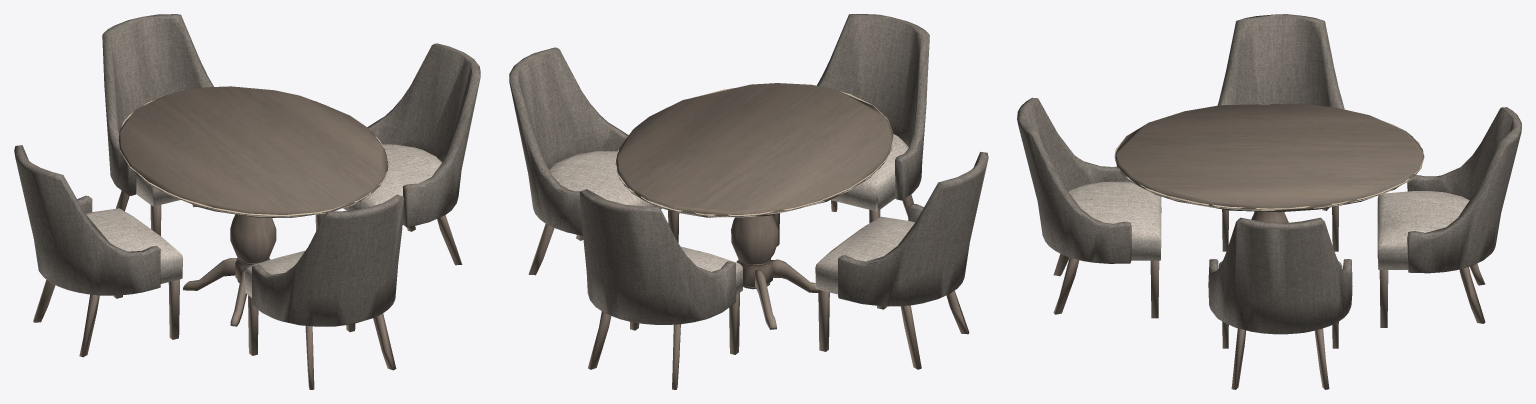
File: table2-var1.glb
The picture shows the model from 3 angles, left to right: view 1: azimuth 30°, elevation 25°; view 2: azimuth 150°, elevation 25°; view 3: azimuth 270°, elevation 25°; orthographic projection. The views are drawn at different scales.
Parts seen in each view (by area): view 1: SM_Table, SM_Chair3, SM_Chair1, SM_Chair, SM_Chair2; view 2: SM_Table, SM_Chair2, SM_Chair1, SM_Chair, SM_Chair3; view 3: SM_Table, SM_Chair, SM_Chair2, SM_Chair3, SM_Chair1.
Boxes of the visible parts, x1,y1,x2,y2 form: SM_Table: (118,86,388,326); SM_Chair3: (245,194,404,389); SM_Chair1: (14,145,182,357); SM_Chair: (315,43,480,265); SM_Chair2: (102,14,213,235); SM_Table: (615,83,893,329); SM_Chair2: (579,189,742,389); SM_Chair1: (815,152,988,369); SM_Chair: (509,47,679,275); SM_Chair3: (773,14,929,246); SM_Table: (1114,103,1424,319); SM_Chair: (1208,217,1352,389); SM_Chair2: (1377,107,1521,327); SM_Chair3: (1017,97,1161,318); SM_Chair1: (1217,14,1344,251).
Size of the model in its own units: 2.48 by 0.9765 by 2.48.
2 materials, 2 textured.
